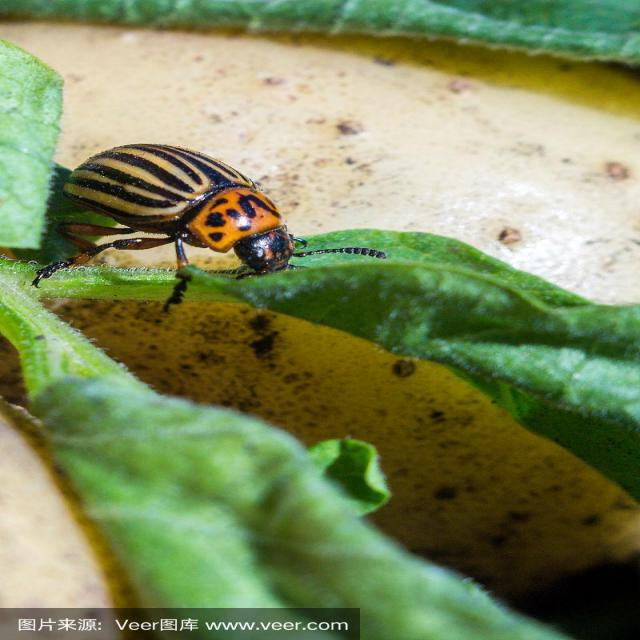ShuCaiHuaBanChong-Grown-: (51, 142, 312, 278)
